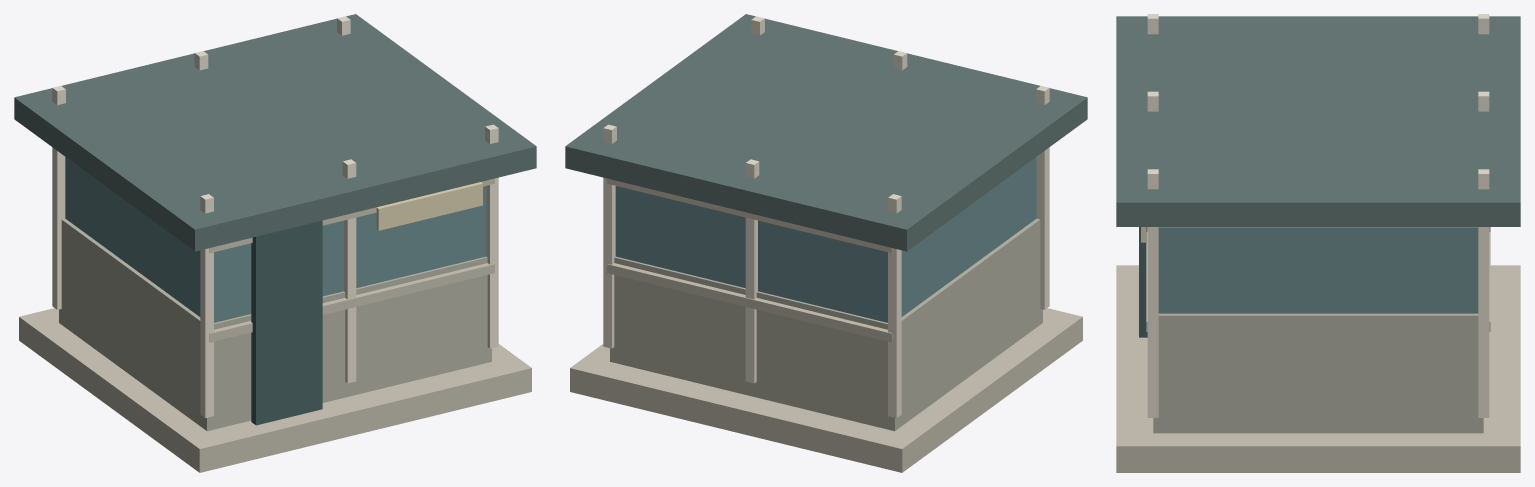
The model's file is guard.glb.
The picture shows the model from 3 angles, left to right: view 1: azimuth 30°, elevation 25°; view 2: azimuth 150°, elevation 25°; view 3: azimuth 270°, elevation 25°; orthographic projection. The views are drawn at different scales.
Visible parts, largest first — view 1: korean-facade-parts-677c79, korean-facade-parts-bcbcae, korean-facade-parts-cec9b9, korean-facade-parts-729497, korean-facade-parts-4e686a, korean-facade-parts-eee8d9, korean-facade-parts-e3d9b9; view 2: korean-facade-parts-677c79, korean-facade-parts-bcbcae, korean-facade-parts-cec9b9, korean-facade-parts-729497, korean-facade-parts-eee8d9; view 3: korean-facade-parts-677c79, korean-facade-parts-bcbcae, korean-facade-parts-729497, korean-facade-parts-cec9b9, korean-facade-parts-eee8d9, korean-facade-parts-4e686a.
Part boxes in pixels (left/top/right/bottom): korean-facade-parts-677c79: left=14, top=14, right=536, bottom=251; korean-facade-parts-bcbcae: left=59, top=218, right=491, bottom=431; korean-facade-parts-cec9b9: left=19, top=178, right=531, bottom=472; korean-facade-parts-729497: left=65, top=157, right=486, bottom=322; korean-facade-parts-4e686a: left=251, top=220, right=322, bottom=425; korean-facade-parts-eee8d9: left=52, top=16, right=498, bottom=418; korean-facade-parts-e3d9b9: left=376, top=182, right=482, bottom=230; korean-facade-parts-677c79: left=565, top=14, right=1087, bottom=251; korean-facade-parts-bcbcae: left=610, top=218, right=1042, bottom=431; korean-facade-parts-cec9b9: left=570, top=178, right=1082, bottom=472; korean-facade-parts-729497: left=615, top=157, right=1036, bottom=322; korean-facade-parts-eee8d9: left=603, top=16, right=1049, bottom=418; korean-facade-parts-677c79: left=1116, top=16, right=1520, bottom=226; korean-facade-parts-bcbcae: left=1153, top=313, right=1483, bottom=433; korean-facade-parts-729497: left=1158, top=227, right=1478, bottom=313; korean-facade-parts-cec9b9: left=1116, top=227, right=1520, bottom=472; korean-facade-parts-eee8d9: left=1147, top=14, right=1489, bottom=417; korean-facade-parts-4e686a: left=1139, top=227, right=1147, bottom=337.
Size of the model in its own units: 3.6 by 2.6 by 3.3.
